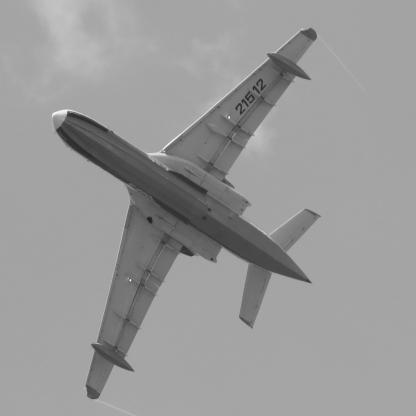Be200: (53, 28, 323, 400)
